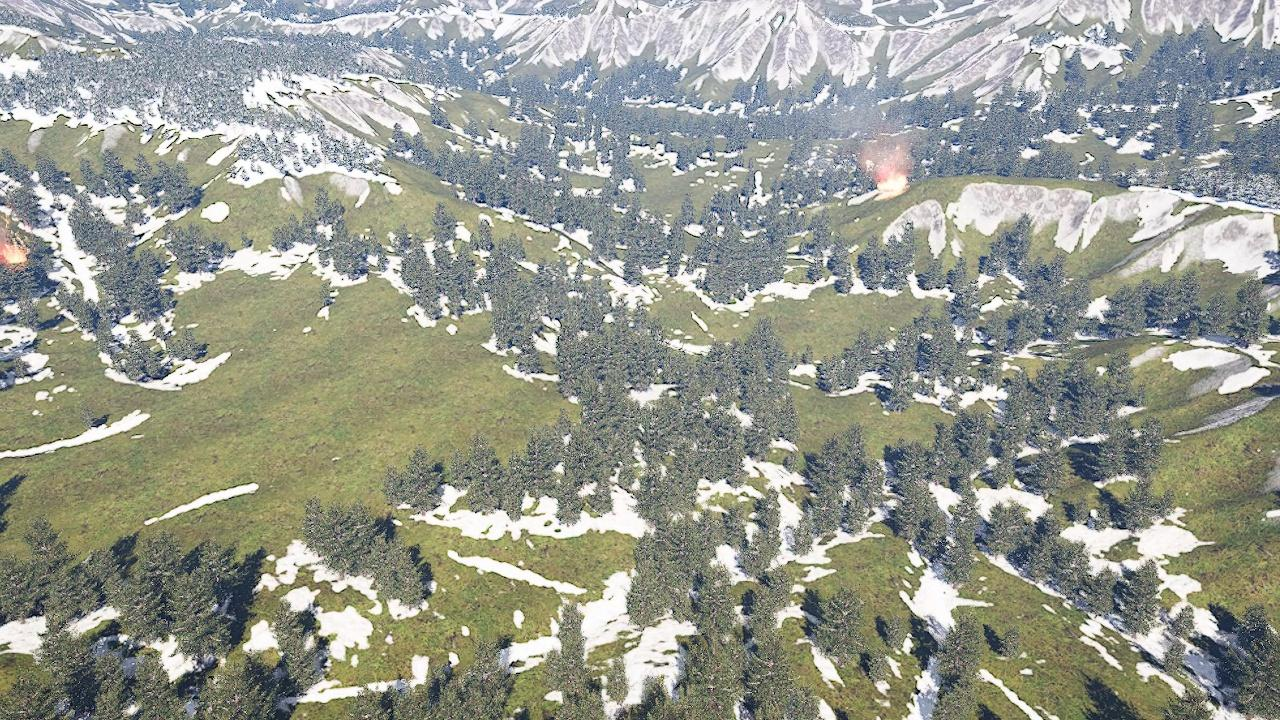fire: (874, 169, 907, 193), (0, 242, 28, 264)
smoke: (849, 114, 914, 172)
